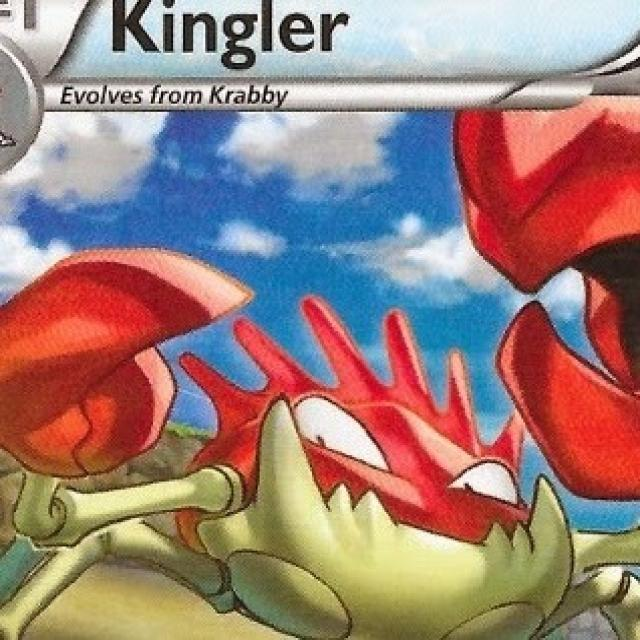Kingler: (6, 233, 640, 640)
